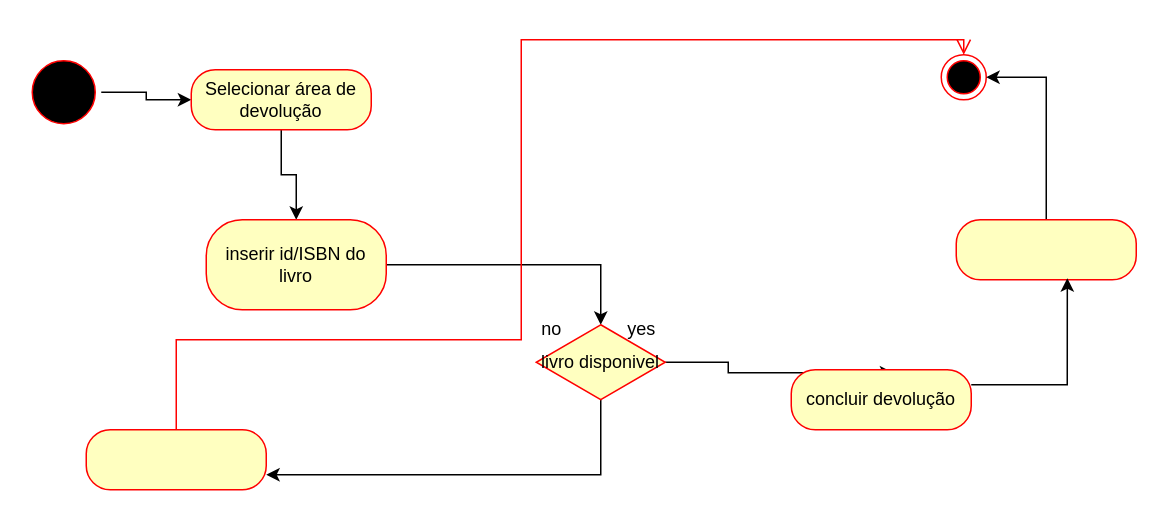
Image size: 1163x516. Some labels were removed from this diagram. Here are the shapes that lost their labels. From the top down, the box of each, then its label:
(955, 218, 1136, 280): registar devolução
(85, 428, 266, 490): Mensagem de erro
